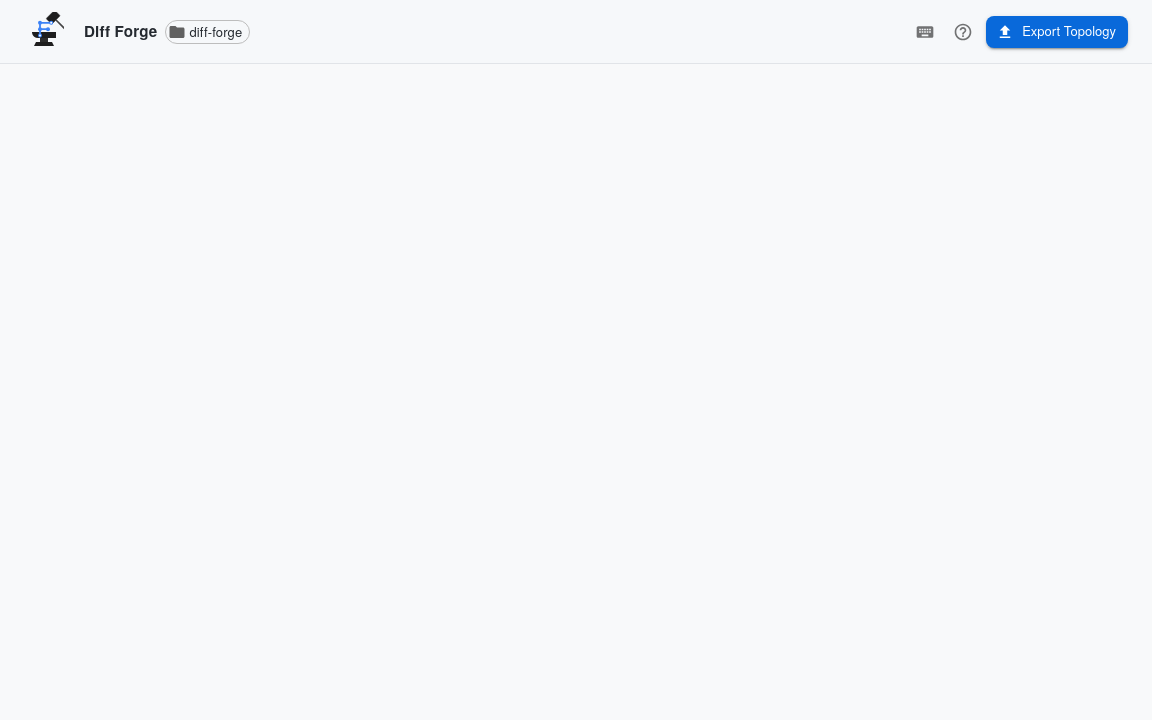
Test: Topbar › opens hotkey reference dialog from keyboard icon
Click the button named "keyboard reference".
click(925, 32)  # box [910,16,940,46]
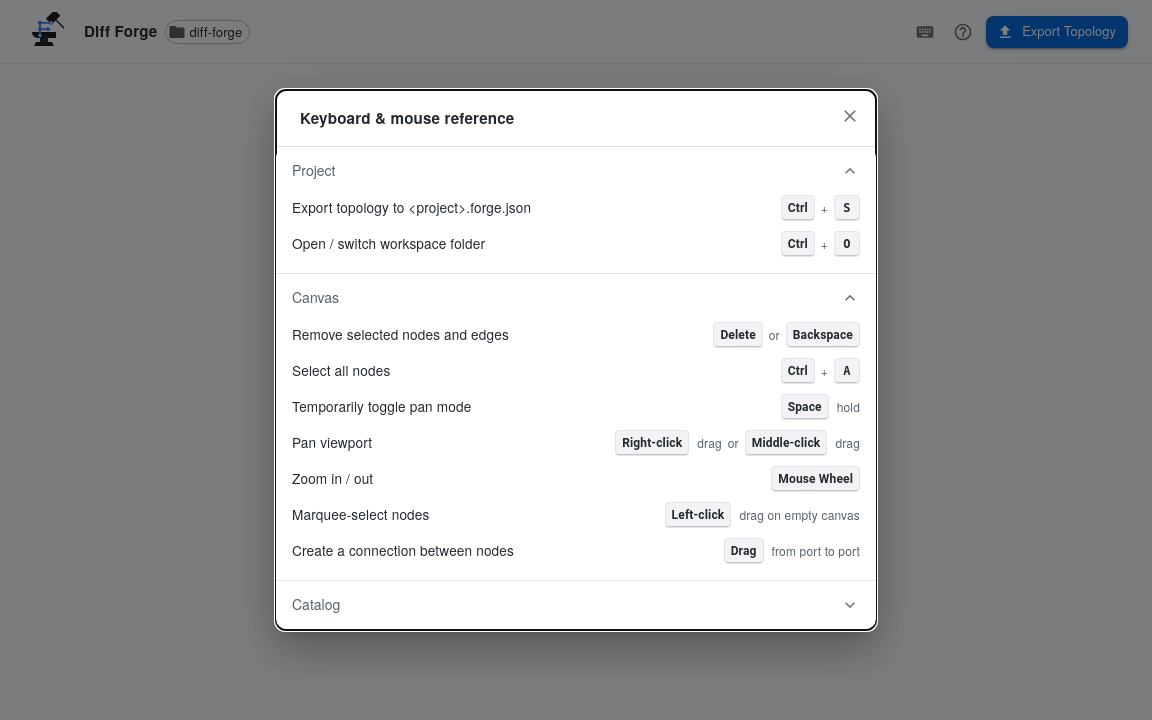
Expected: the heading "Keyboard & mouse reference" is shown, [276,90,876,146]
